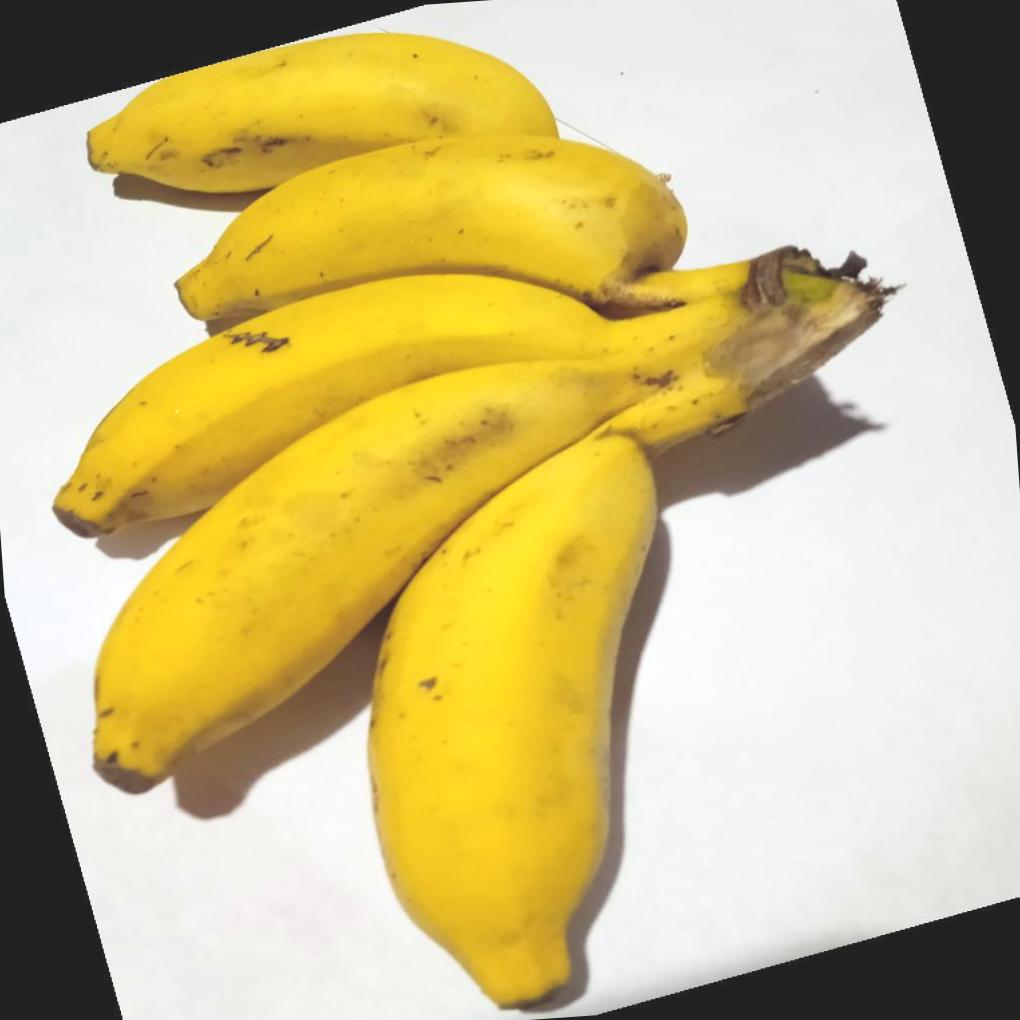Banana Ripe: (25, 11, 836, 1020)
